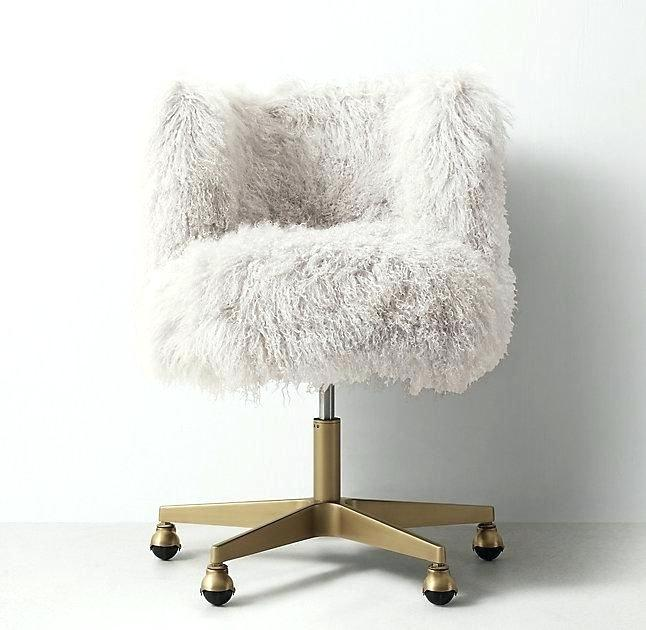chairs: (133, 76, 535, 616)
